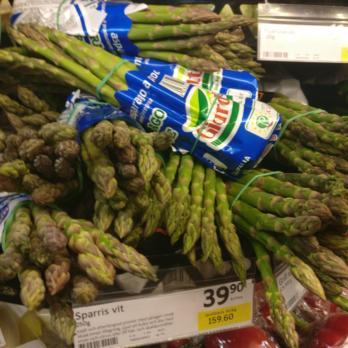Asparagus: (2, 124, 348, 279), (2, 0, 253, 112)
